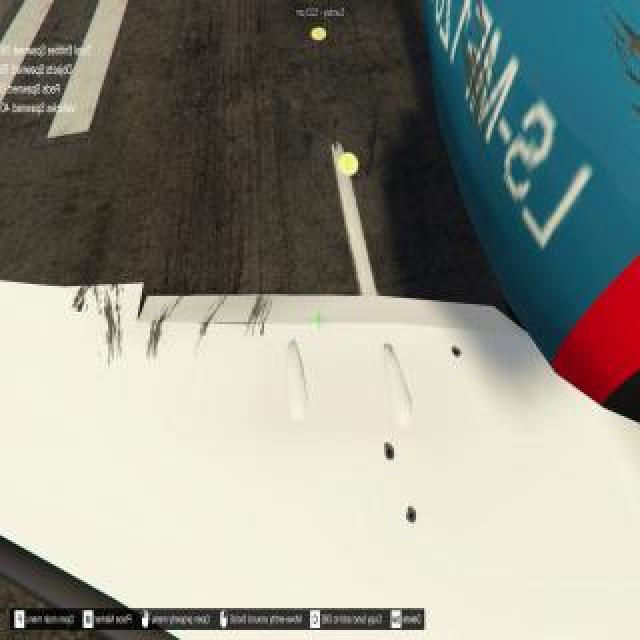crack: (403, 502, 421, 526), (383, 439, 397, 467), (452, 344, 464, 360)
dent: (106, 291, 119, 357), (149, 317, 167, 358), (253, 295, 270, 336), (71, 282, 90, 314)
